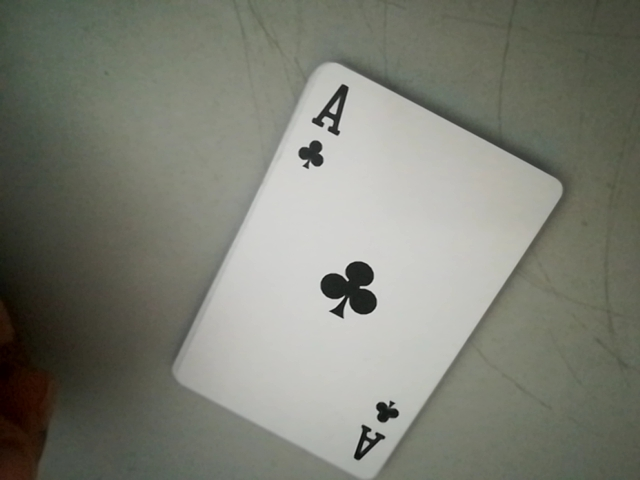mh a: (285, 76, 351, 182), (347, 394, 409, 478)
